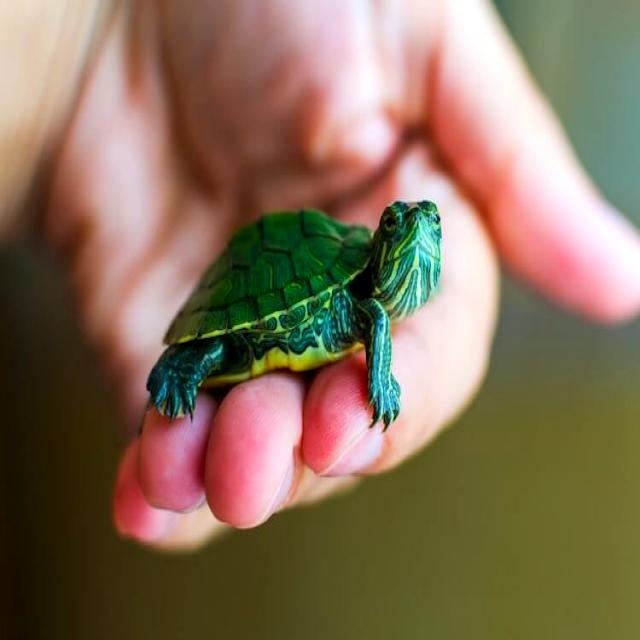Sea turtle: (116, 170, 464, 450)
